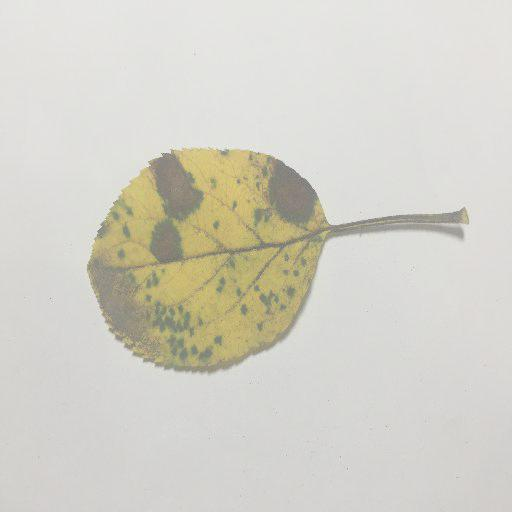Brown_Spot: (111, 267, 154, 347), (156, 162, 202, 219), (268, 174, 317, 225), (148, 226, 189, 264)
